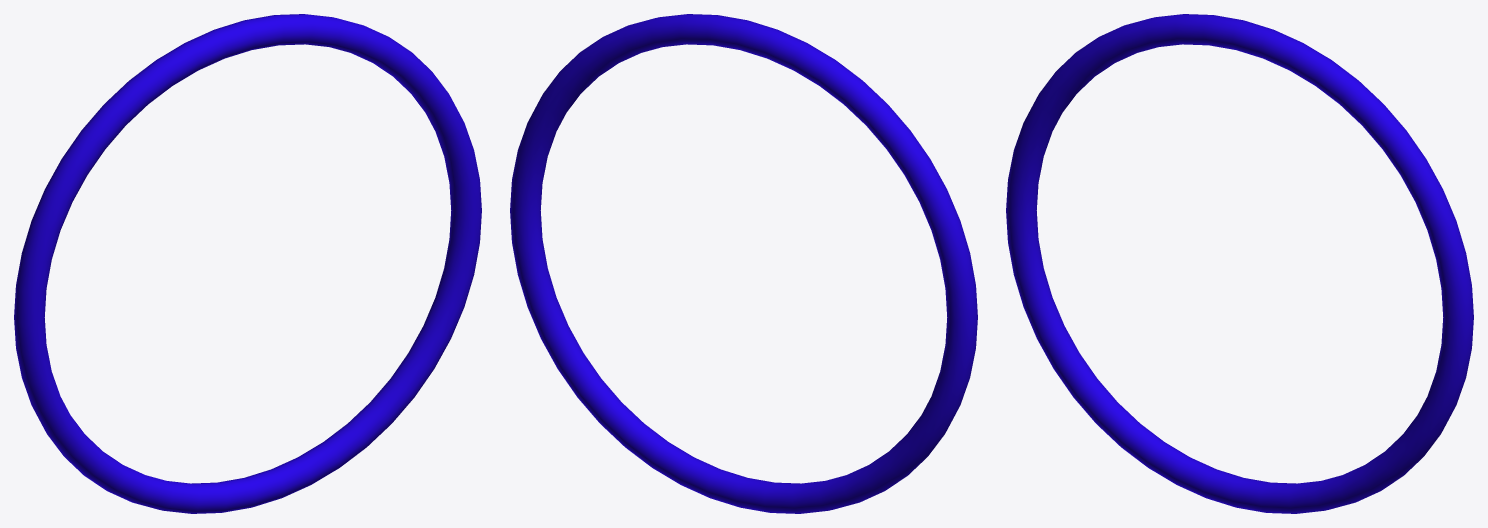
3 renders of one model, left to right at view 1: azimuth 30°, elevation 25°; view 2: azimuth 150°, elevation 25°; view 3: azimuth 330°, elevation 25°, orthographic.
Visible parts, largest first — view 1: Torus.001; view 2: Torus.001; view 3: Torus.001.
Boxes of the visible parts, box(x1,y1,x2,y2) form: Torus.001: box(14, 14, 481, 513); Torus.001: box(510, 14, 977, 513); Torus.001: box(1006, 14, 1473, 513).
Size of the model in its own units: 4.52 by 4.52 by 0.26.
